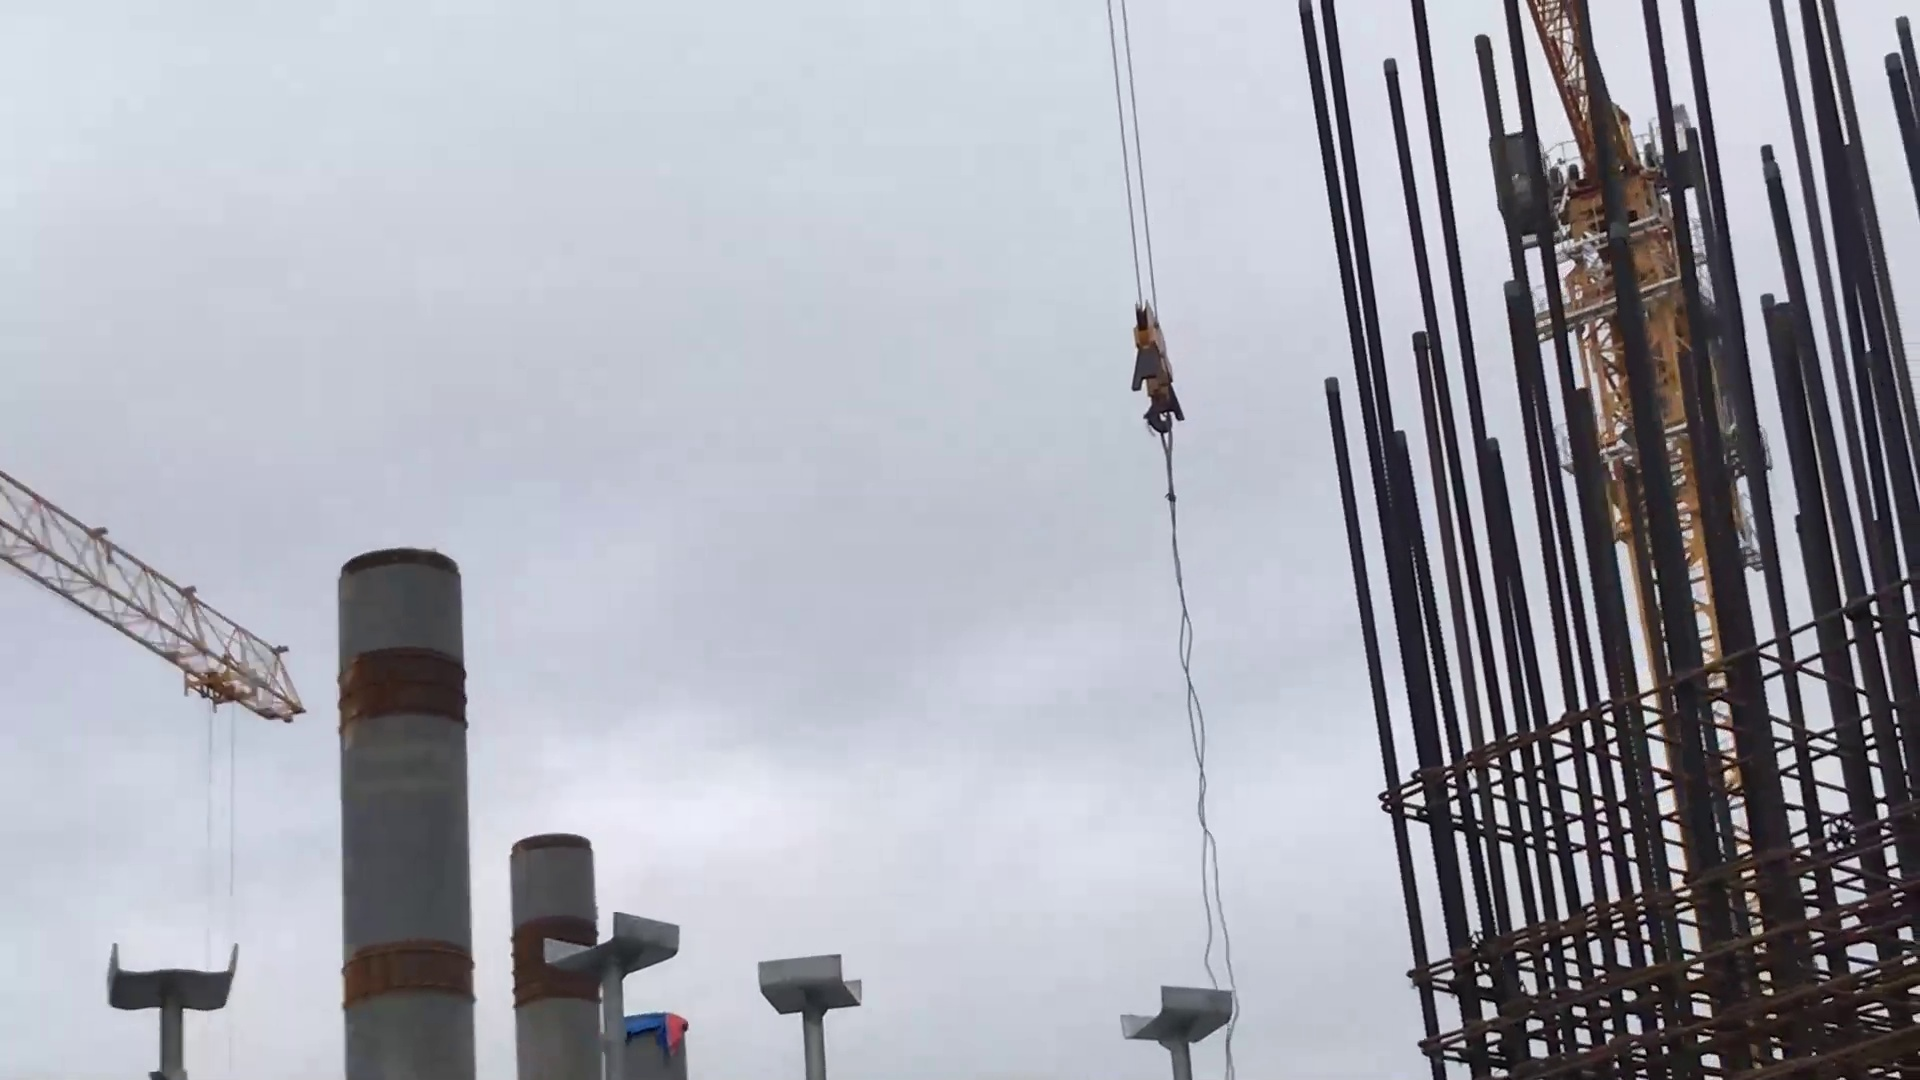hook: (1116, 299, 1207, 446)
